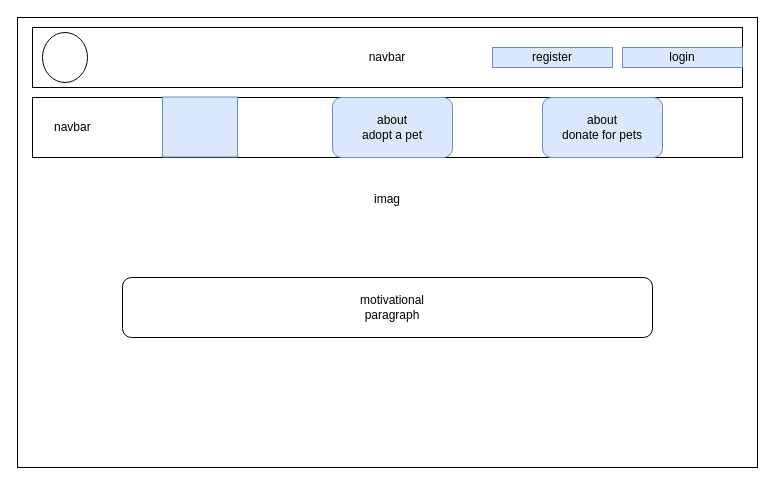
Image size: 775x485. Some labels were removed from this diagram. The box of each missing label's shape, as (x1, y1, x2, y2) in pixels:
about us: (162, 96, 238, 157)
logo: (42, 32, 88, 82)
